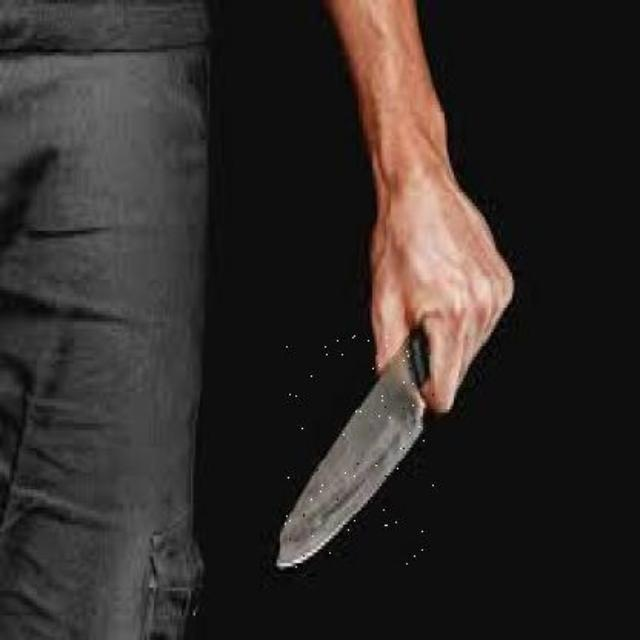Knife: (281, 330, 434, 570)
